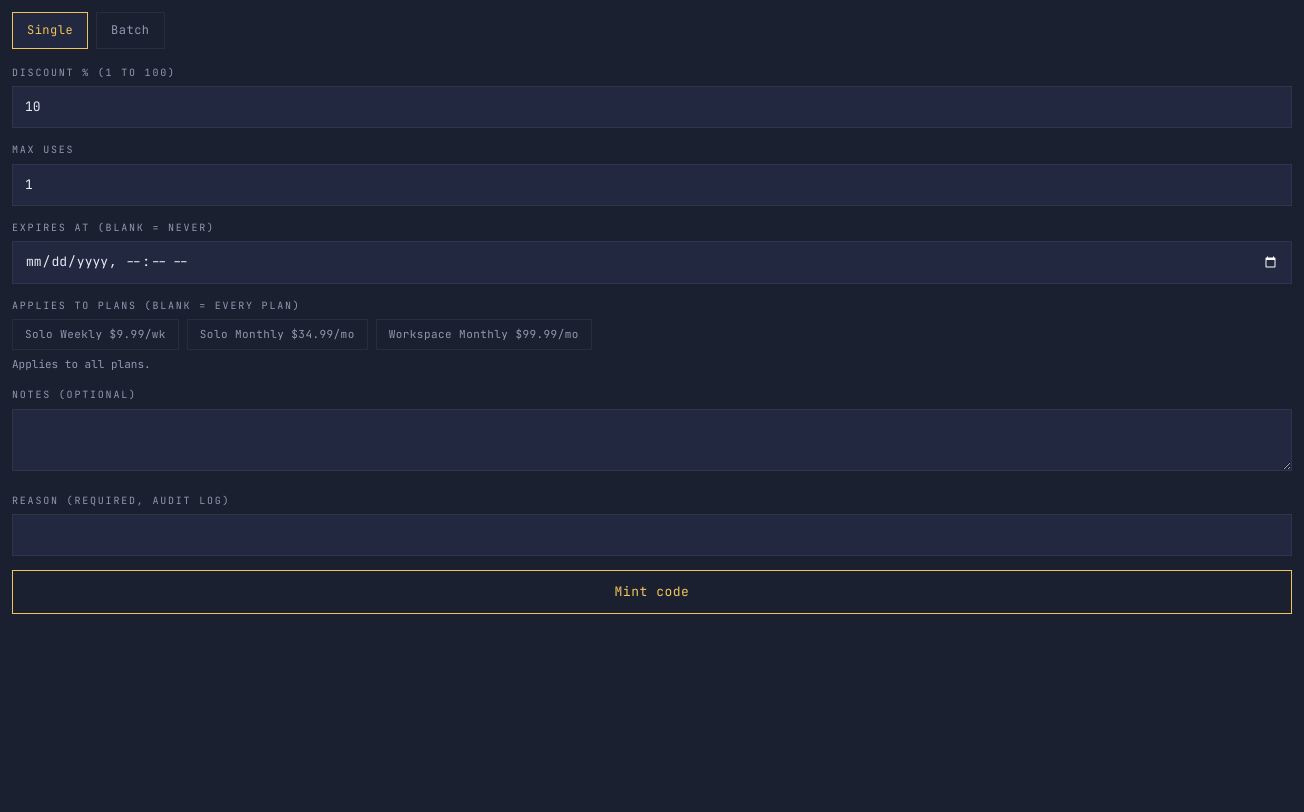
MintDiscountCodeForm › rejects discount_pct below 1
Replace the text in the number field labelled "Discount % (1 to 100)" with "0". click: (652, 107)
box: [12,86,1292,128]
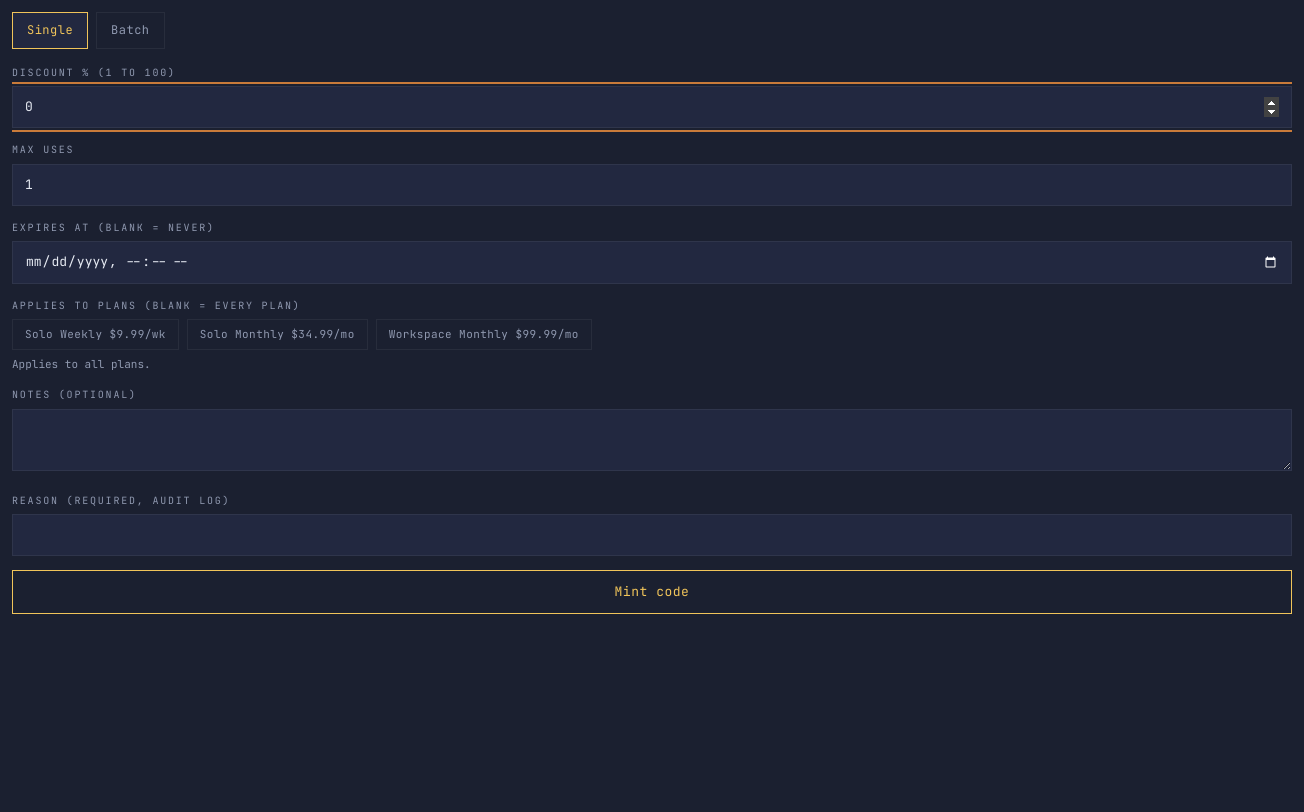
Type "test" into the field labelled "Reason (required, audit log)". click: (652, 535)
box: [12,514,1292,556]
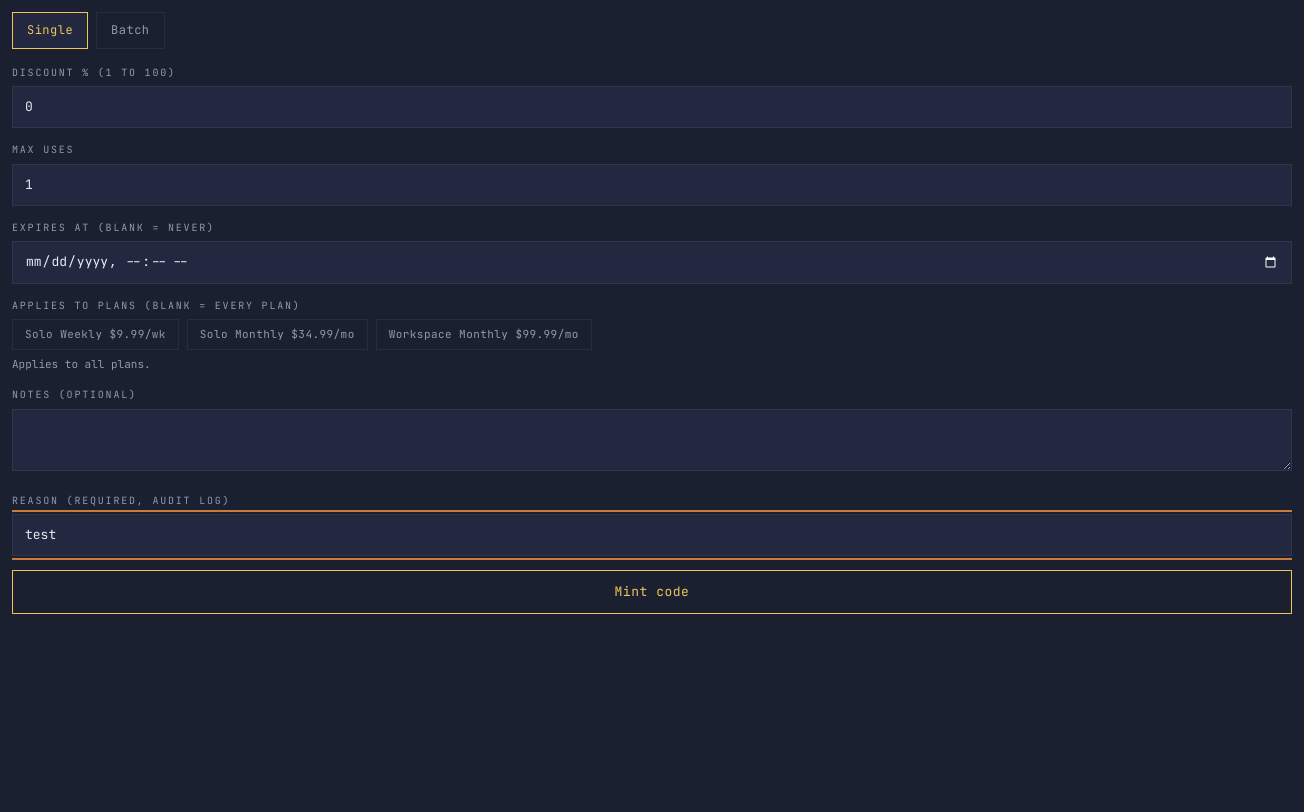
Click the button "Mint code". click: (652, 592)
box: [12,570,1292,614]
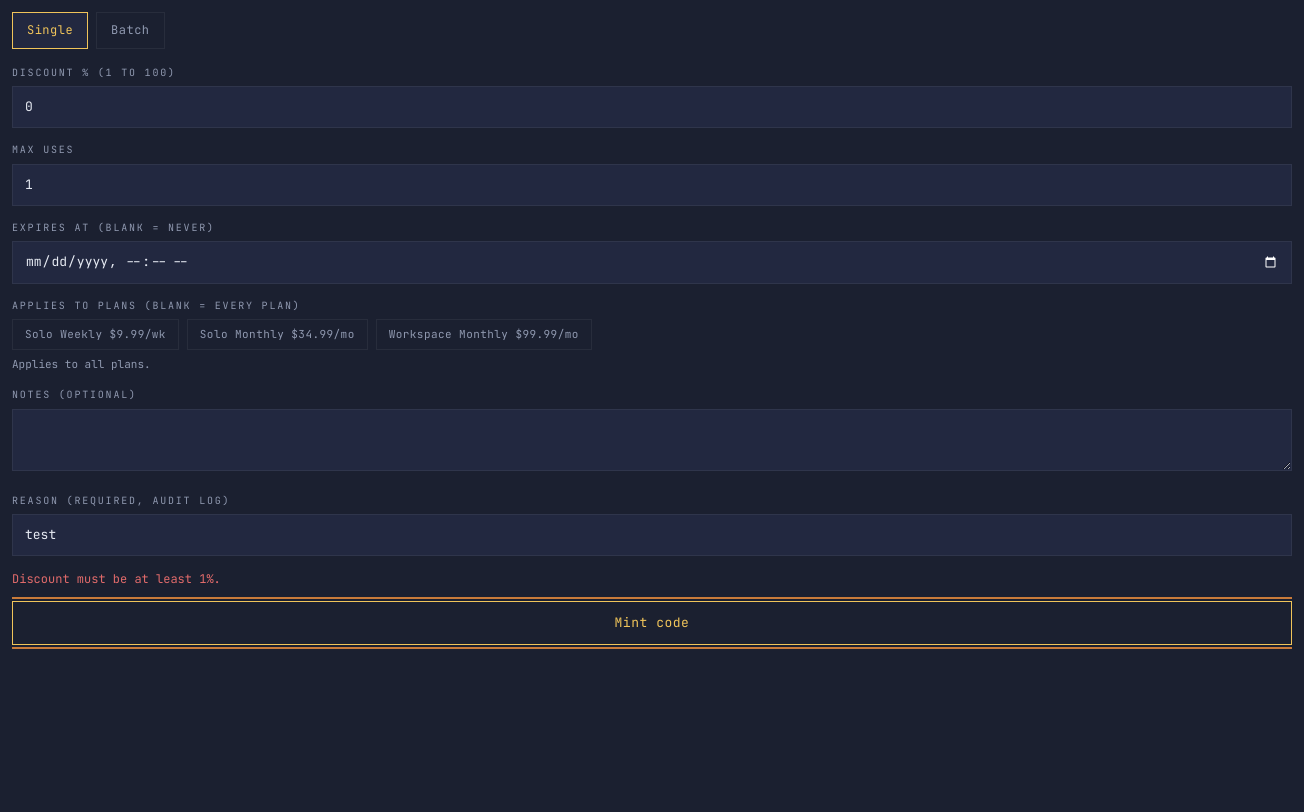
Expected: the message shows "at least 1%", [12,571,221,587]
